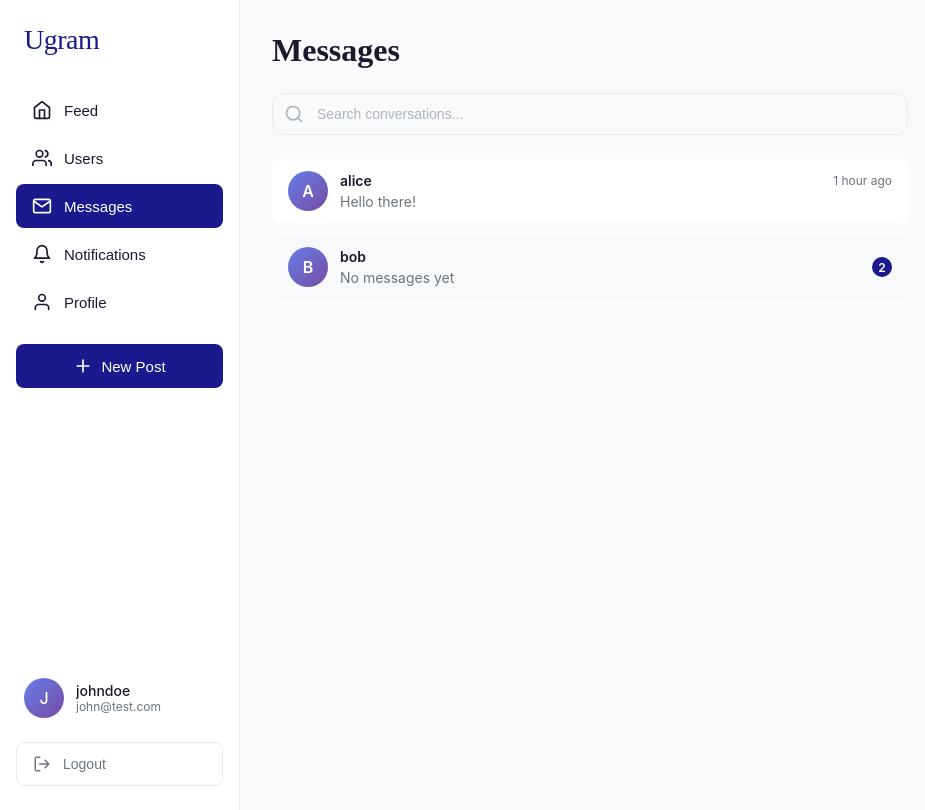
Test: MessagesPage › filters conversations by username
The width and height of the screenshot is (925, 810).
Check: the text "alice" is shown, box [340, 172, 372, 189]
In the field with placeholder "Search conversations...": point(590, 114) [272, 93, 908, 135], type "alice"
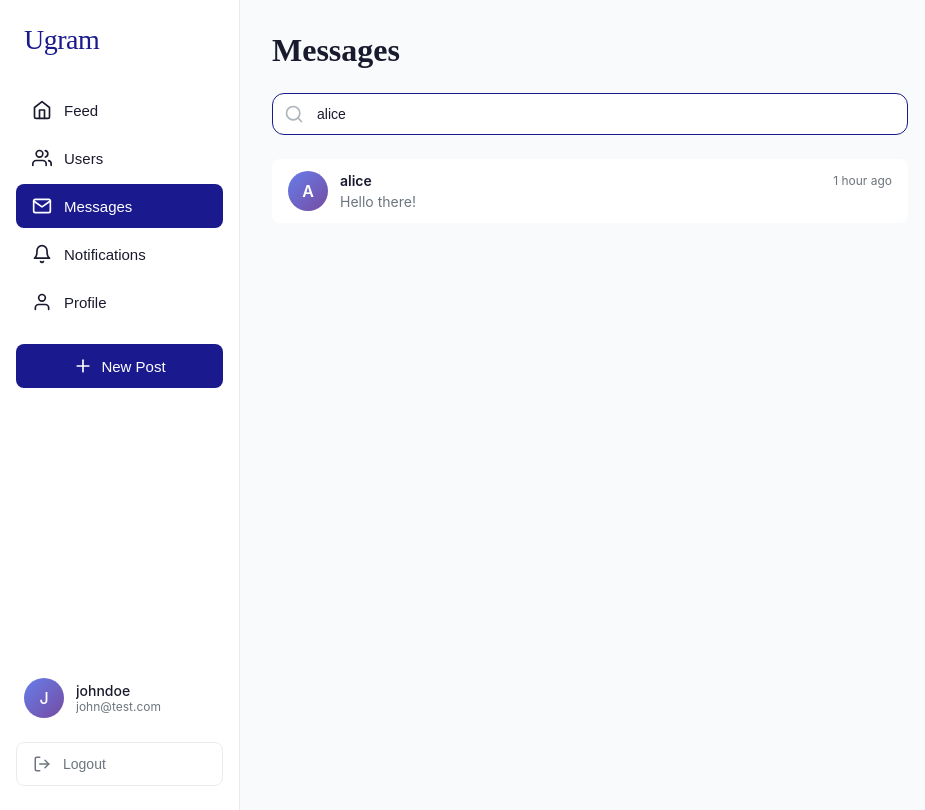
Check: the text "alice" is shown, box [340, 172, 372, 189]
Check: the button "bob" is gone
